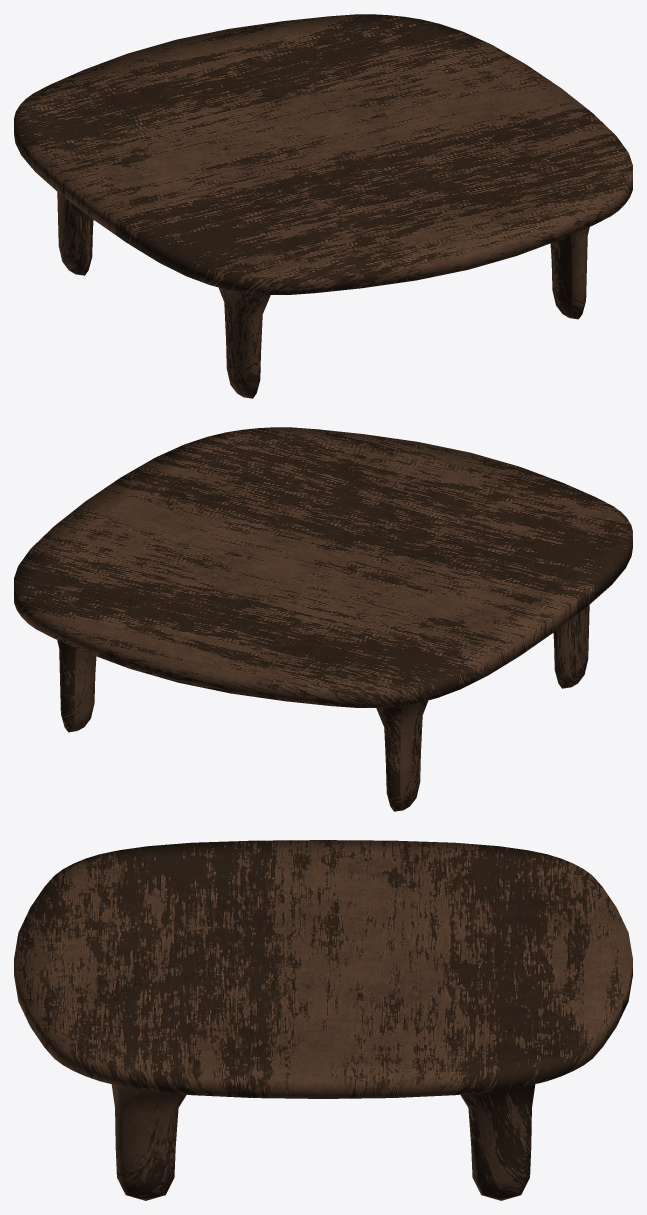
File: Mesa.fbx
3 views of the same model, one above another, from view 1: azimuth 30°, elevation 25°; view 2: azimuth 150°, elevation 25°; view 3: azimuth 270°, elevation 25° (orthographic). The views are drawn at different scales.
Visible parts, largest first — view 1: Mesa; view 2: Mesa; view 3: Mesa.
Boxes of the visible parts, left/top/right/bottom form: Mesa: left=14, top=14, right=632, bottom=398; Mesa: left=14, top=427, right=632, bottom=811; Mesa: left=14, top=840, right=632, bottom=1200.
Bounding box in the file's own units: 5892 × 1792 × 6362.
